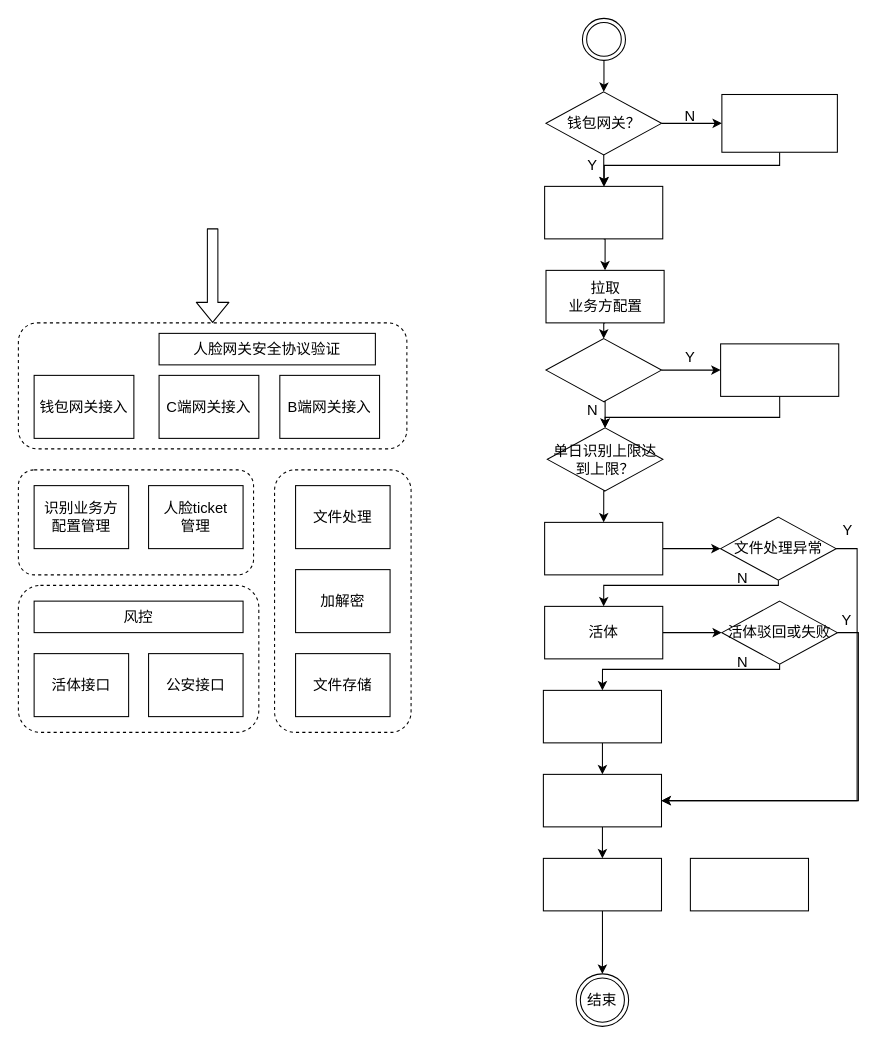
Image size: 885x1045. Some labels were removed from this diagram. Here are the shapes that lost their labels. From the top down, the centre of each, then its label:
At (x=779, y=122): "人脸网关 安全协议验证".
At (x=603, y=212): "参数验证 上下文信息收集".
At (x=603, y=370): "人脸ticket？".
At (x=779, y=369): "ticket验证 ticket信息获取".
At (x=603, y=548): "文件解密、处理、上传、落表".
At (x=602, y=716): "公安".
At (x=602, y=800): "风控上报、检测".
At (x=602, y=884): "识别结果落表".
At (x=748, y=884): "结果 异步发送tiger".
